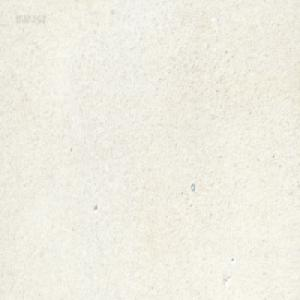Washer: (190, 181, 195, 191)
